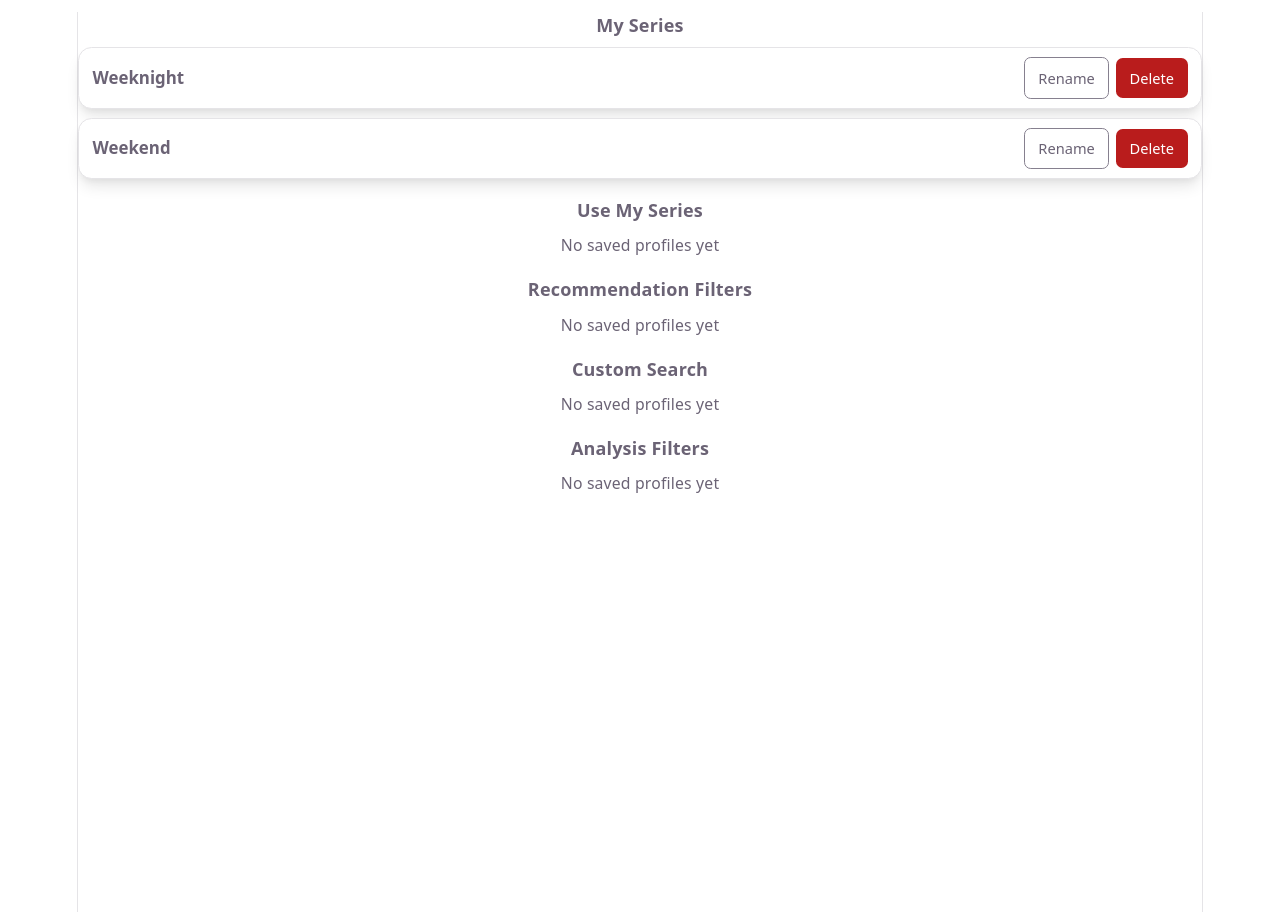
Scenario: FRONTEND-108-AC-11: rename validates and persists › shows an inline error and stays in rename mode on a duplicate name
Click the button with aria-label "rename weeknight": [1067, 78] box [1024, 57, 1109, 99]
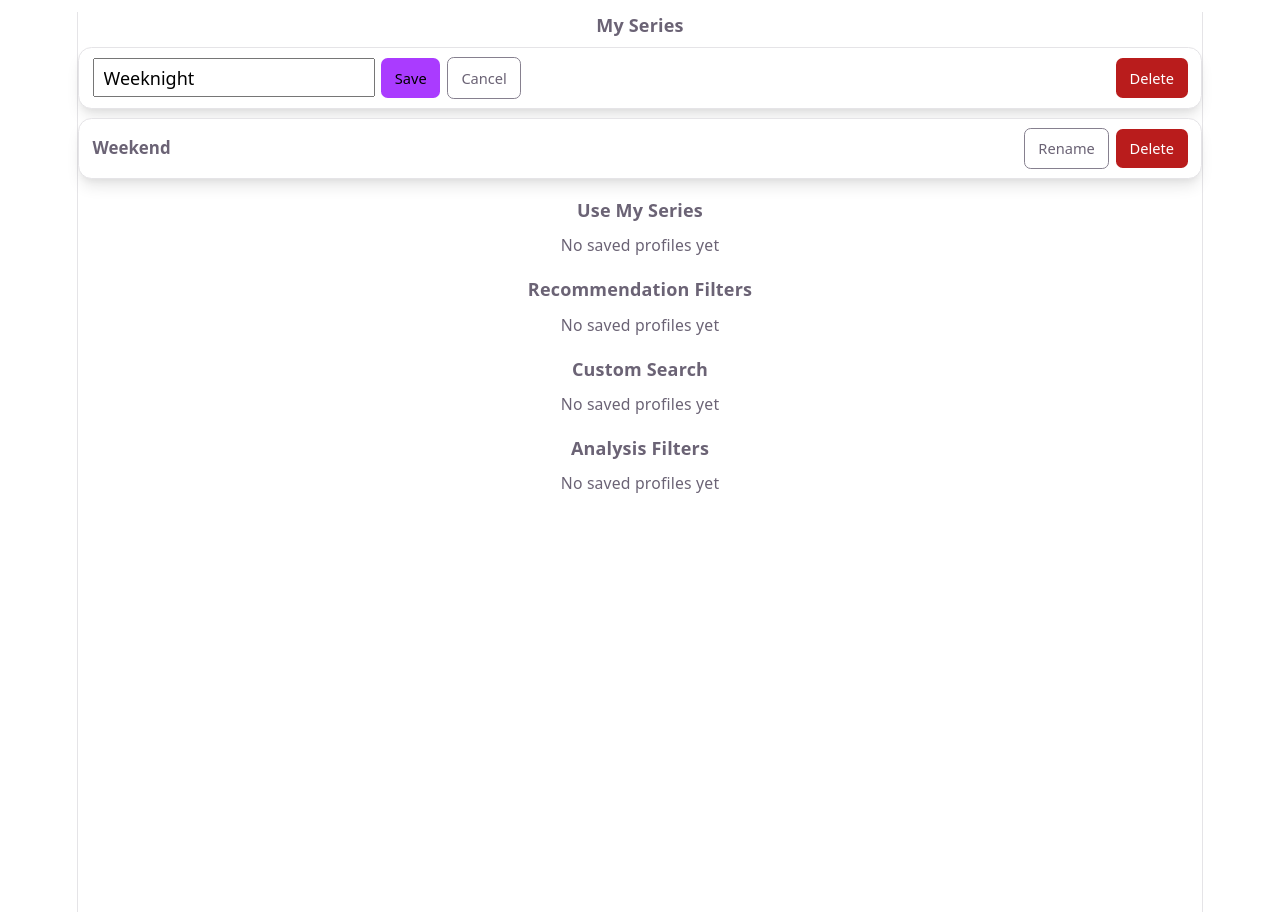
Replace the text in the field showing "Weeknight" with "Weekend": [234, 78] box [92, 58, 374, 97]
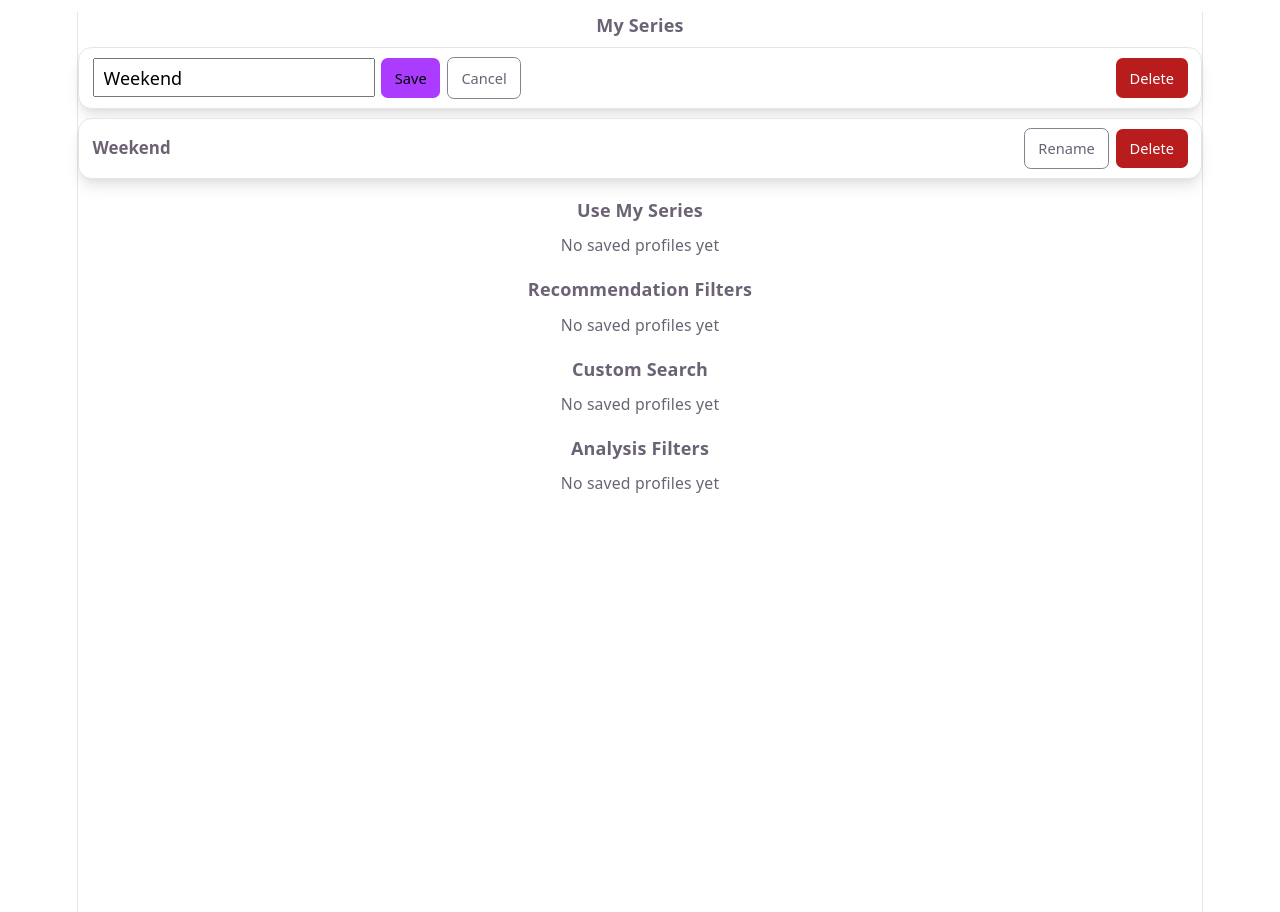
Click the button "Save": [411, 78] box [381, 58, 440, 98]
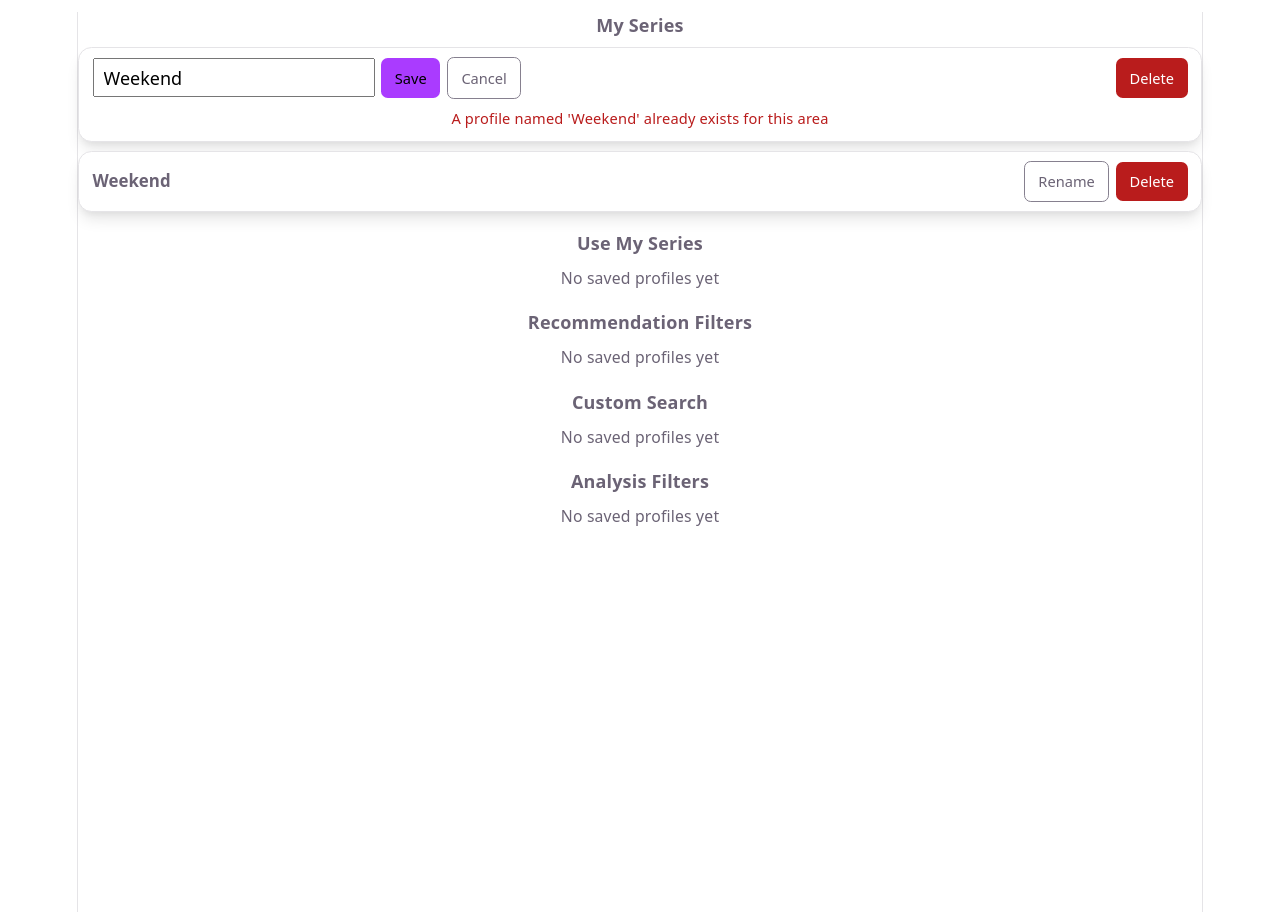
Check: the message shows "already exists", box [451, 108, 829, 128]
